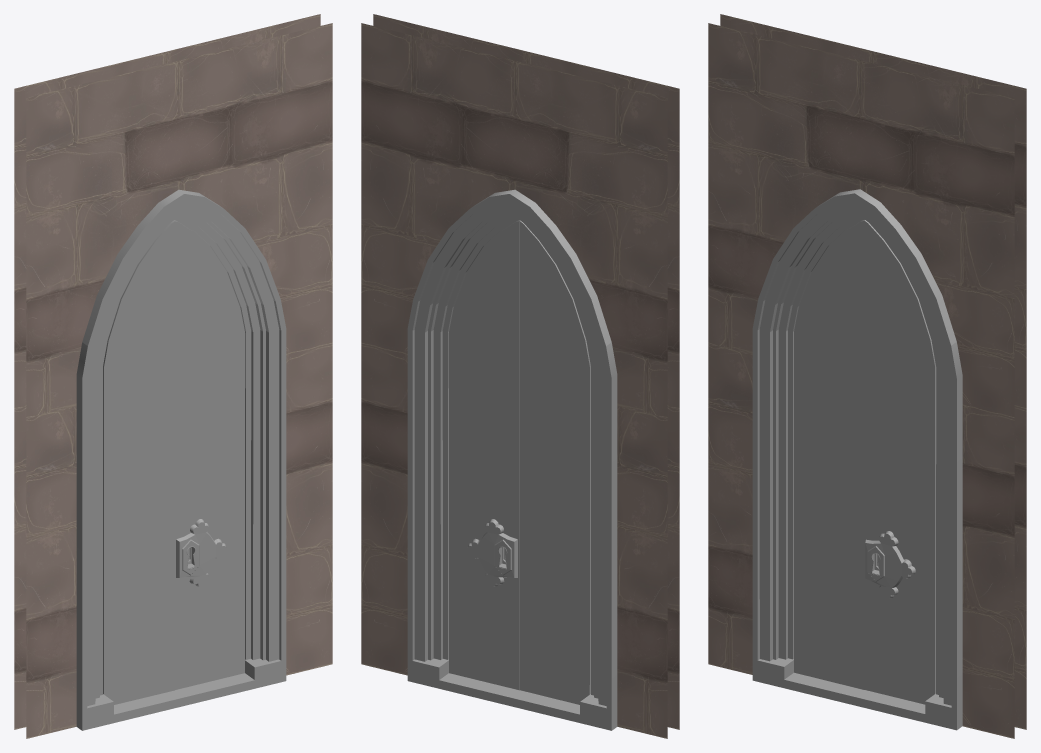
File: SM_Door_01.fbx
The picture shows the model from 3 angles, left to right: view 1: azimuth 30°, elevation 25°; view 2: azimuth 150°, elevation 25°; view 3: azimuth 330°, elevation 25°; orthographic projection.
Parts seen in each view (by area): view 1: SM_Door_Wall_01, SK_Door_L_01, SK_Door_R_01; view 2: SM_Door_Wall_01, SK_Door_L_01, SK_Door_R_01; view 3: SM_Door_Wall_01, SK_Door_R_01, SK_Door_L_01.
Boxes of the visible parts, x1,y1,x2,y2 form: SM_Door_Wall_01: [14, 14, 332, 738]; SK_Door_L_01: [103, 220, 174, 704]; SK_Door_R_01: [174, 220, 245, 689]; SM_Door_Wall_01: [361, 14, 679, 738]; SK_Door_L_01: [519, 220, 590, 704]; SK_Door_R_01: [448, 220, 519, 690]; SM_Door_Wall_01: [708, 14, 1026, 738]; SK_Door_R_01: [864, 220, 936, 704]; SK_Door_L_01: [794, 220, 864, 689].
Bounding box in the file's own units: 300 × 600 × 40.
